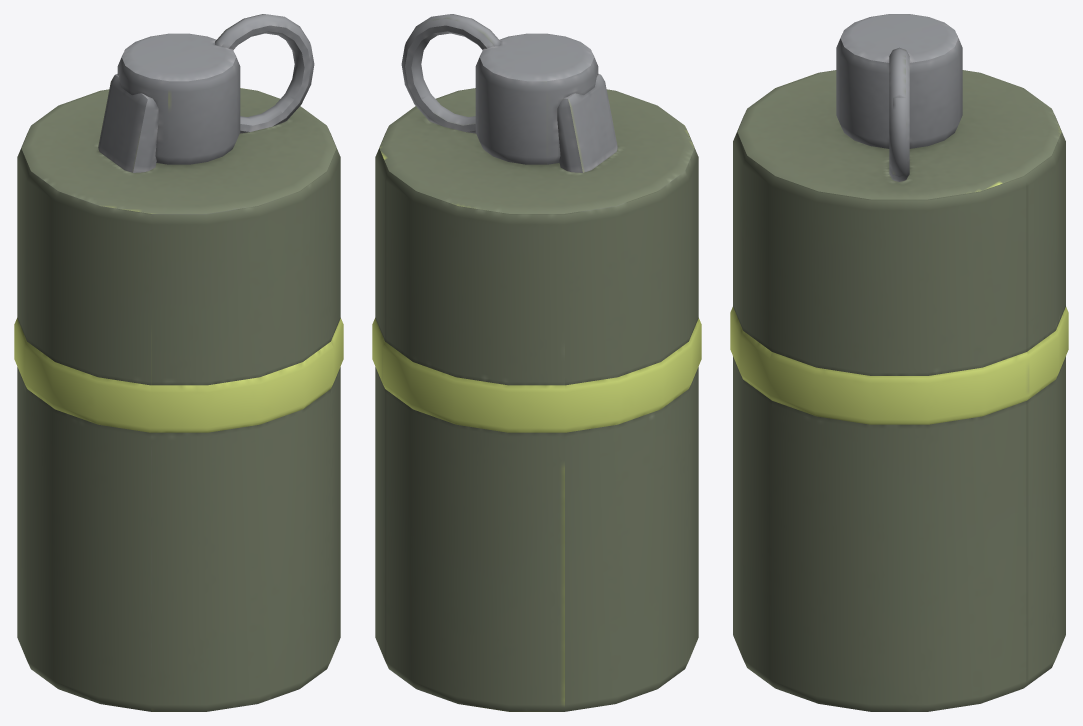
Rendered from smoke.fbx.
3 views of the same model, side by side, from view 1: azimuth 30°, elevation 25°; view 2: azimuth 150°, elevation 25°; view 3: azimuth 270°, elevation 25° (orthographic). The views are drawn at different scales.
Parts seen in each view (by area): view 1: smoke; view 2: smoke; view 3: smoke.
Boxes of the visible parts, x1,y1,x2,y2 form: smoke: [14, 14, 343, 711]; smoke: [372, 14, 701, 711]; smoke: [730, 14, 1068, 711].
Bounding box in the file's own units: 0.0581 × 0.1216 × 0.059.
